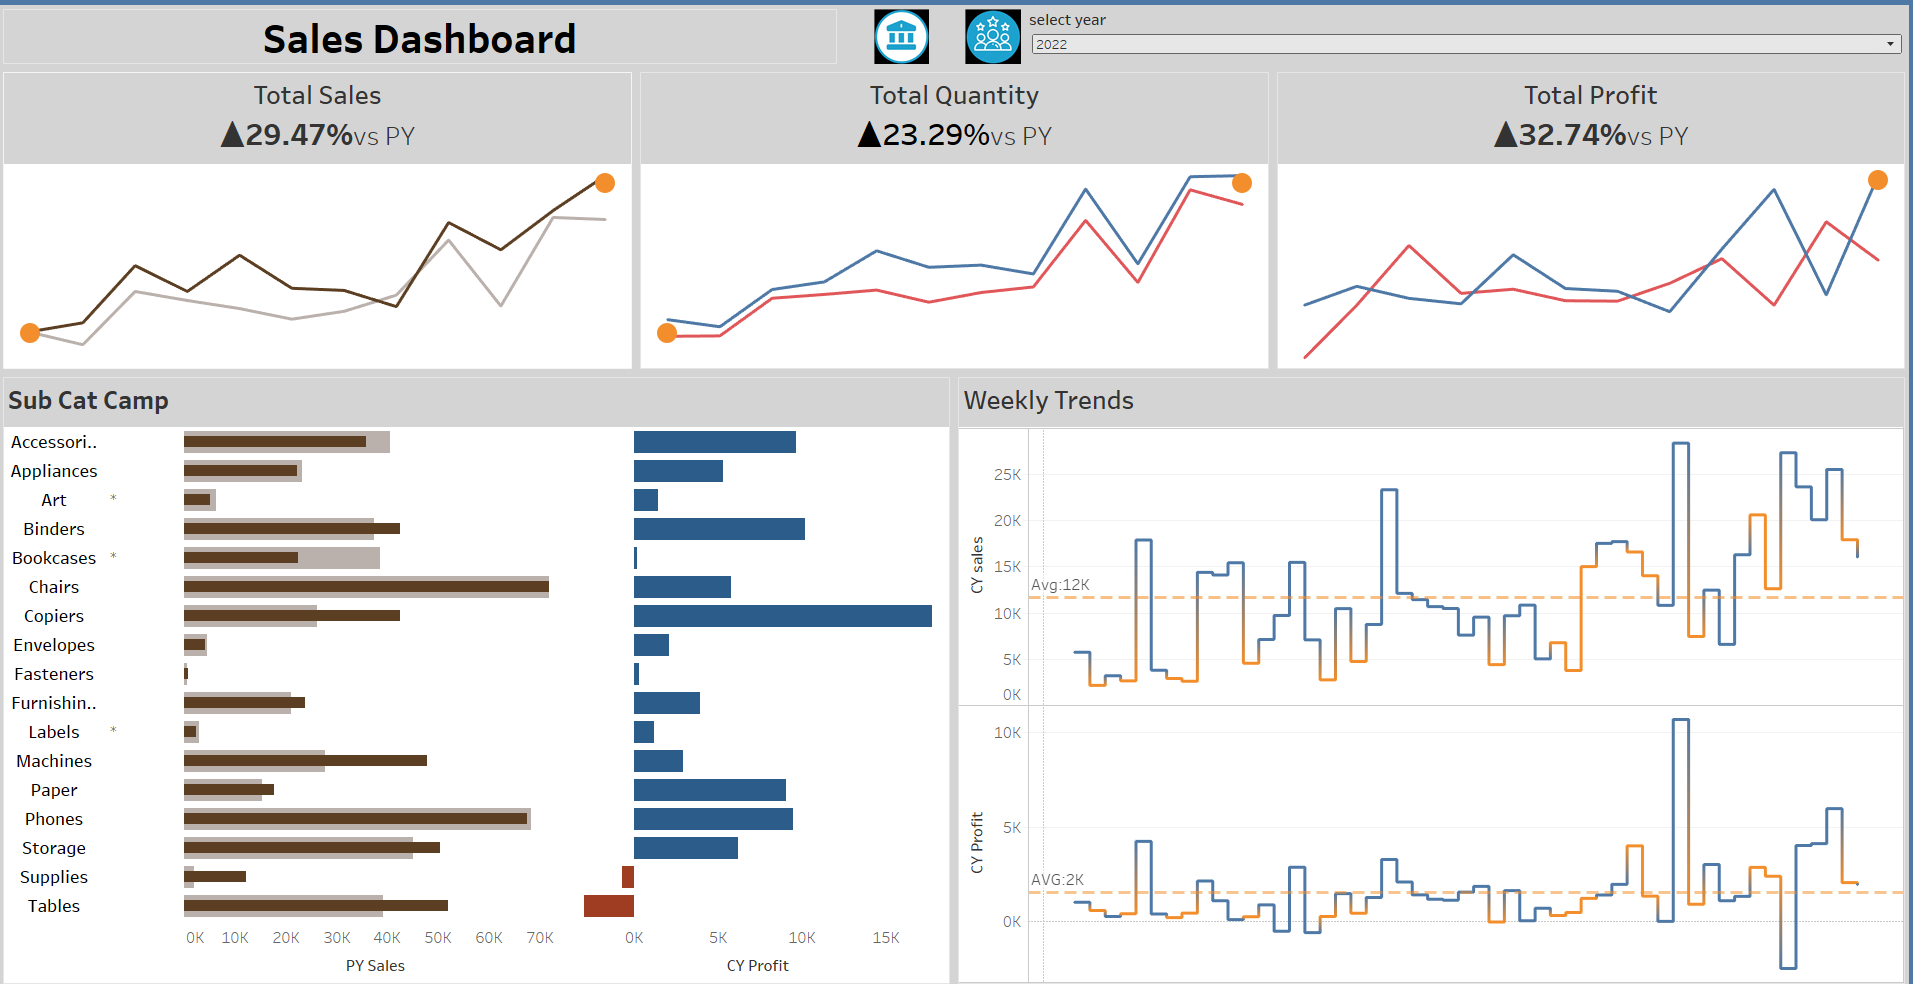

The dashboard page shown, as its layout file describes it:
{"tool":"tableau","page":{"name":"Dashboard 1","canvas":[1000,1000],"units":"permille","ordinal":0},"visuals":[{"type":"text","box":[3,6.2,508.2,78.7]},{"type":"dashboard-object","box":[511.2,6.2,72.4,78.7]},{"type":"dashboard-object","box":[583.6,6.2,38.6,78.7]},{"type":"parameter","param":"[Parameters].[Parameter 1]","box":[622.2,6.2,374.8,78.7]},{"type":"worksheet","title":"KPI Sales","mark":"Automatic","rows":["Calculation_323977718304661517"],"cols":["Order Date"],"box":[3,84.9,331.3,380.8]},{"type":"worksheet","title":"KPI Quantity","mark":"Automatic","rows":["Calculation_323977718304661517"],"cols":["Order Date"],"box":[334.3,84.9,331.3,380.8]},{"type":"worksheet","title":"KPI Profit ","mark":"Automatic","rows":["MIn/Max sales (copy)_478507481528025089"],"cols":["Order Date"],"box":[665.7,84.9,331.3,380.8]},{"type":"worksheet","title":"Sub category comp","mark":"Bar","rows":["Sub-Category","Calculation_478507481535262731"],"cols":["Calculation_323977718294622211","Calculation_323977718294204417","Calculation_323977718299521030"],"box":[3,465.7,497.3,528.1]},{"type":"worksheet","title":"Weekly Trends","mark":"Automatic","rows":["Calculation_323977718294204417","Calculation_323977718299521030"],"cols":["Order Date"],"box":[500.3,465.7,496.7,528.1]}]}

Visuals, with their boxes on the dashboard's canvas, which has no fixed pixel size, in thousandths of its width and height (x1, y1, x2, y2). These are canvas units, not pixel positions in the 1913x984 screenshot, which may show the page scaled, cropped or inside an application window:
text: [left=3, top=6, right=511, bottom=85]
dashboard-object: [left=511, top=6, right=584, bottom=85]
dashboard-object: [left=584, top=6, right=622, bottom=85]
parameter: [left=622, top=6, right=997, bottom=85]
"KPI Sales" worksheet: [left=3, top=85, right=334, bottom=466]
"KPI Quantity" worksheet: [left=334, top=85, right=666, bottom=466]
"KPI Profit " worksheet: [left=666, top=85, right=997, bottom=466]
"Sub category comp" worksheet (Bar marks): [left=3, top=466, right=500, bottom=994]
"Weekly Trends" worksheet: [left=500, top=466, right=997, bottom=994]
